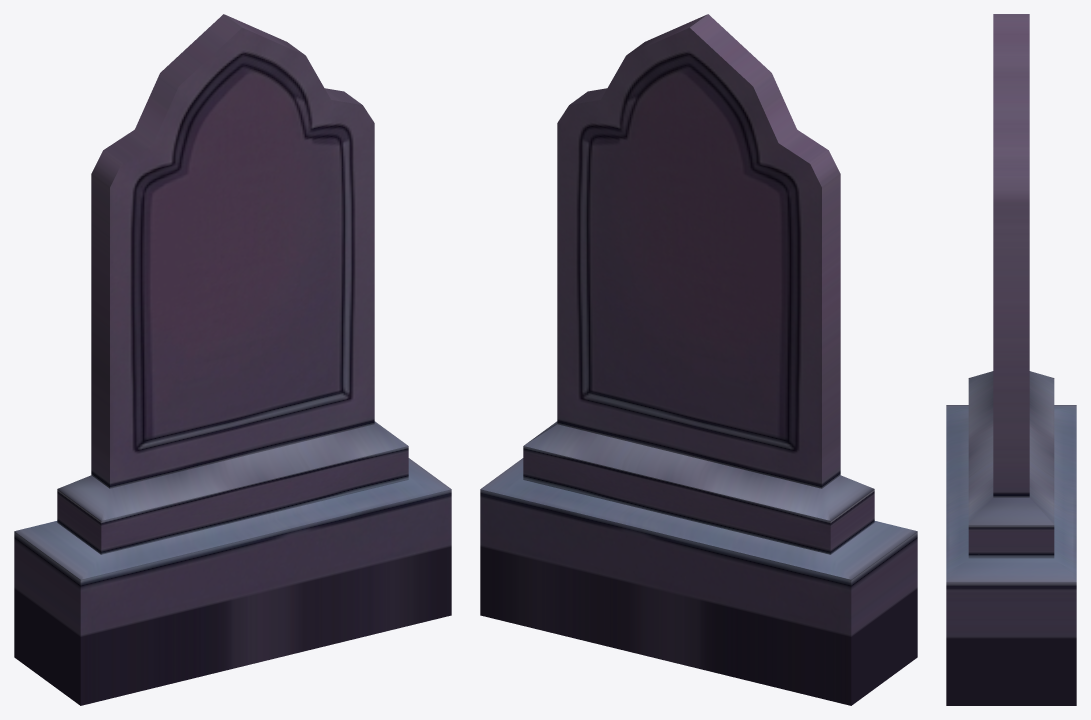
File: Gravestone03.glb
3 views of the same model, side by side, from view 1: azimuth 30°, elevation 25°; view 2: azimuth 150°, elevation 25°; view 3: azimuth 270°, elevation 25° (orthographic). The views are drawn at different scales.
Parts seen in each view (by area): view 1: Gravestone03; view 2: Gravestone03; view 3: Gravestone03.
Boxes of the visible parts, x1,y1,x2,y2 form: Gravestone03: (14,14,451,705); Gravestone03: (480,14,917,705); Gravestone03: (946,14,1076,705).
Bounding box in the file's own units: 4.69 × 7.43 × 1.45.
1 material, 1 textured.
